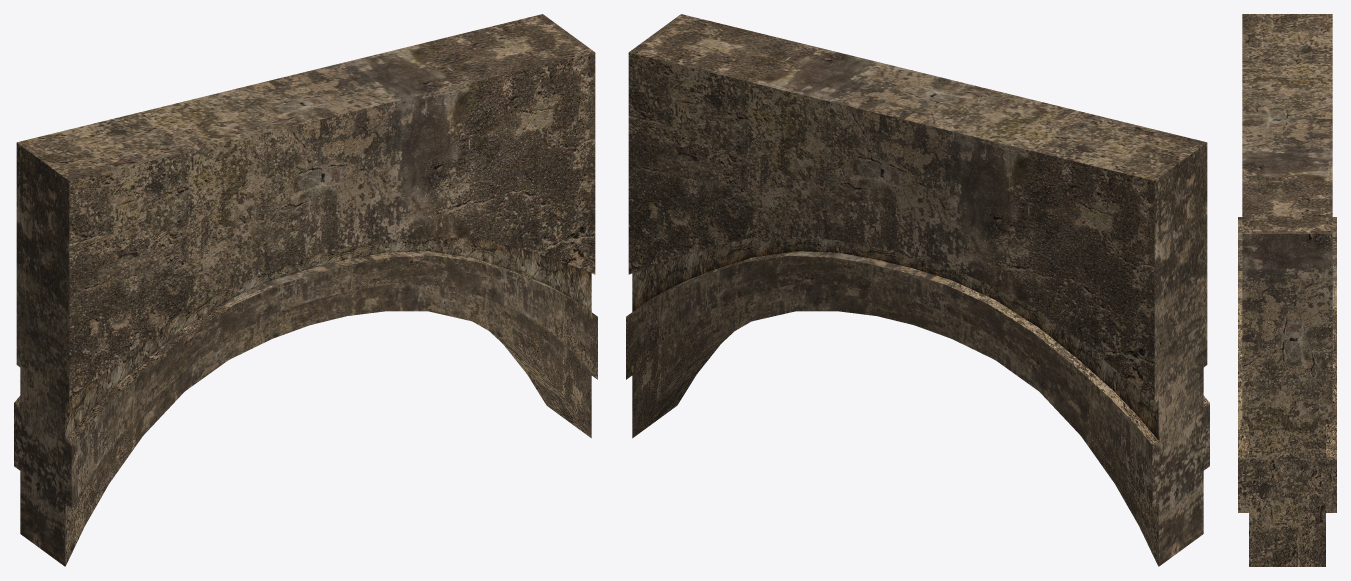
Rendered from materials_5_arch_12.fbx.
3 renders of one model, left to right at view 1: azimuth 30°, elevation 25°; view 2: azimuth 150°, elevation 25°; view 3: azimuth 270°, elevation 25°, orthographic. The views are drawn at different scales.
Parts seen in each view (by area): view 1: materials_5_arch_12; view 2: materials_5_arch_12; view 3: materials_5_arch_12.
Boxes of the visible parts, x1,y1,x2,y2 form: materials_5_arch_12: [14, 14, 597, 566]; materials_5_arch_12: [626, 14, 1209, 566]; materials_5_arch_12: [1238, 14, 1336, 566].
Bounding box in the file's own units: 194 × 137 × 36.78.
